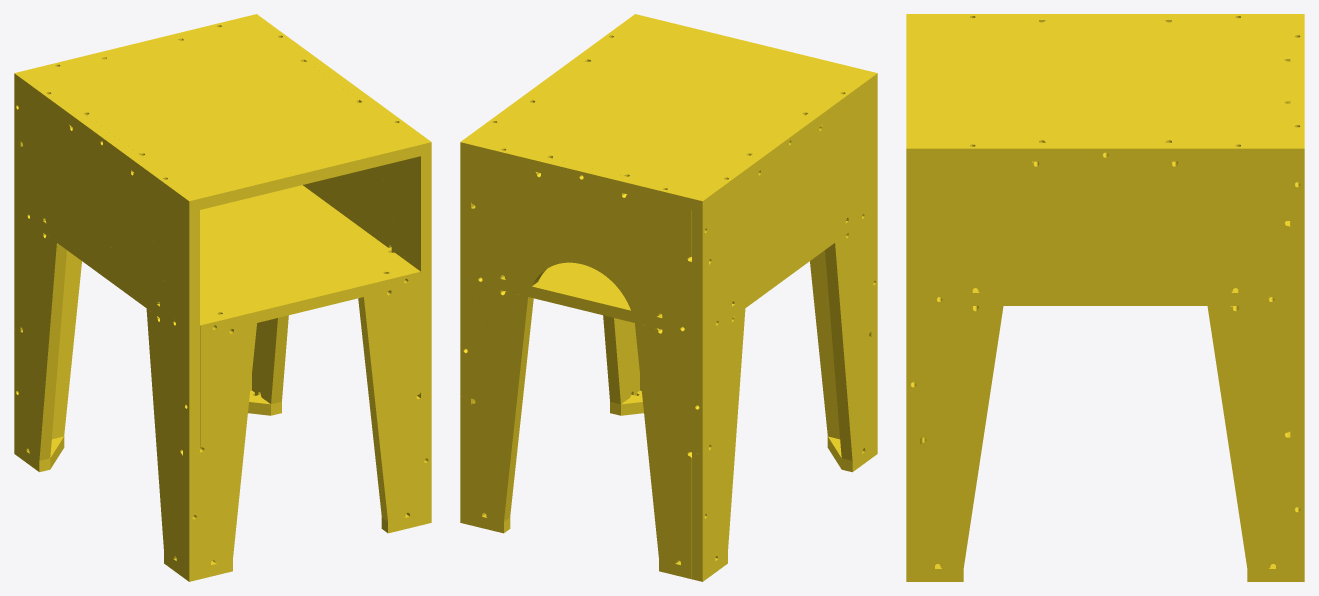
Rendered from openscad_opendesk-bedside-table.glb.
3 views of the same model, side by side, from view 1: azimuth 30°, elevation 25°; view 2: azimuth 150°, elevation 25°; view 3: azimuth 270°, elevation 25° (orthographic). The views are drawn at different scales.
Parts seen in each view (by area): view 1: object; view 2: object; view 3: object.
Part boxes in pixels (x1=…): object: x1=14, y1=14, x2=431, y2=581; object: x1=460, y1=14, x2=877, y2=581; object: x1=906, y1=14, x2=1304, y2=581.
Size of the model in its own units: 400 by 600 by 500.
